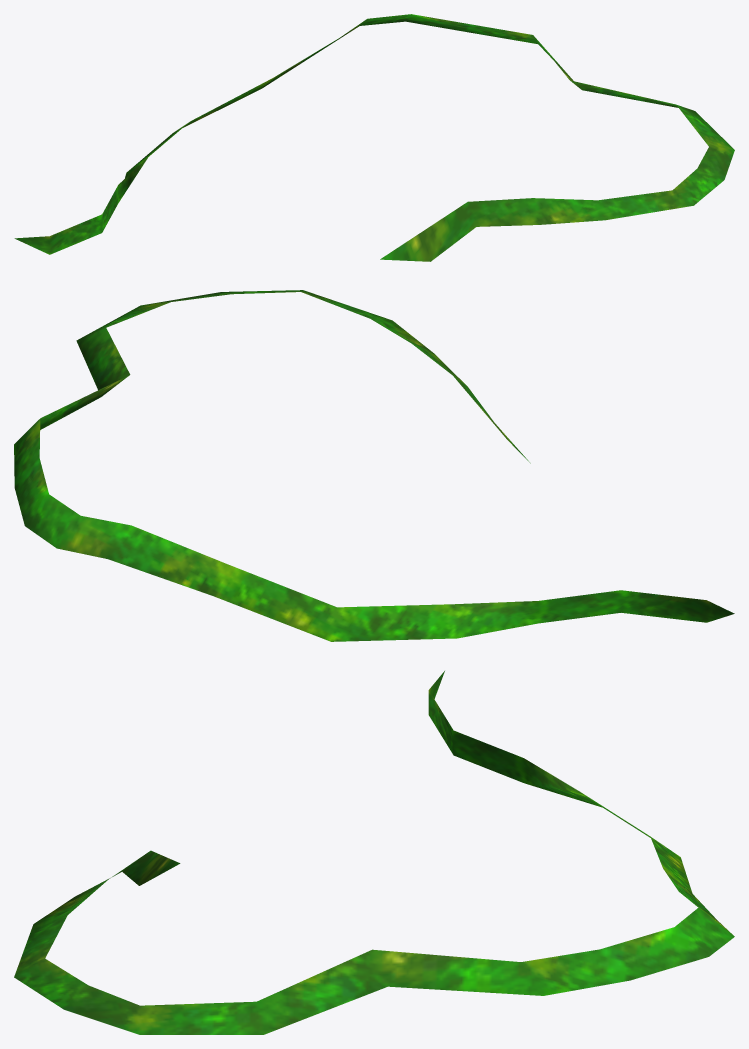
File: EKH_ENTRANCE_PS_EN_GRASSBLEND03937.fbx
3 views of the same model, one above another, from view 1: azimuth 30°, elevation 25°; view 2: azimuth 150°, elevation 25°; view 3: azimuth 270°, elevation 25° (orthographic). The views are drawn at different scales.
Parts seen in each view (by area): view 1: EKH_ENTRANCE_PS_EN_GRASSBLEND03937; view 2: EKH_ENTRANCE_PS_EN_GRASSBLEND03937; view 3: EKH_ENTRANCE_PS_EN_GRASSBLEND03937.
Part boxes in pixels (box(x1,y1,x2,y2)): EKH_ENTRANCE_PS_EN_GRASSBLEND03937: box(14, 14, 734, 261); EKH_ENTRANCE_PS_EN_GRASSBLEND03937: box(14, 290, 734, 641); EKH_ENTRANCE_PS_EN_GRASSBLEND03937: box(14, 671, 734, 1034).
Bounding box in the file's own units: 77225 × 8220 × 58664.
Materials: 1 (1 with a texture image).
